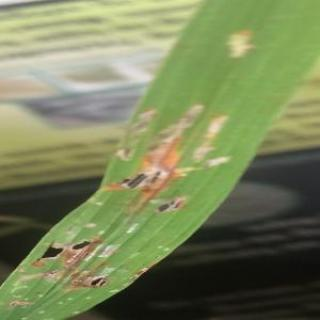Blast: (120, 105, 233, 221)
